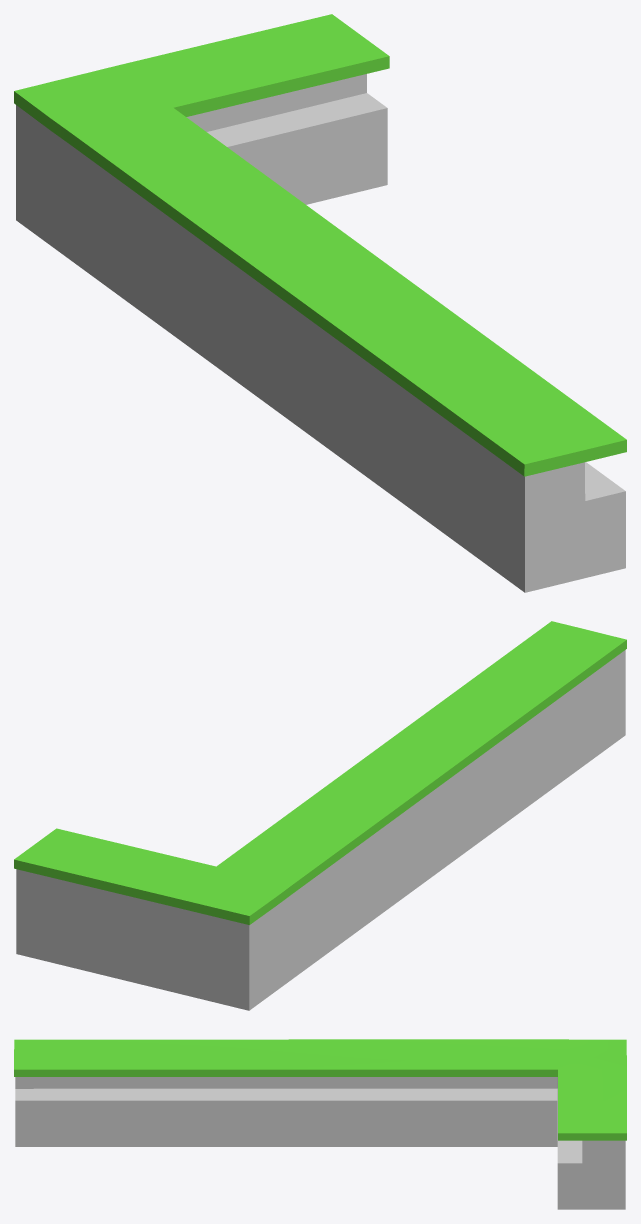
Rendered from counter.fbx.
The picture shows the model from 3 angles, top to bottom: view 1: azimuth 30°, elevation 25°; view 2: azimuth 150°, elevation 25°; view 3: azimuth 270°, elevation 25°; orthographic projection. The views are drawn at different scales.
Visible parts, largest first — view 1: counter; view 2: counter; view 3: counter.
Boxes of the visible parts, x1=… form: counter: x1=14, y1=14, x2=626, y2=592; counter: x1=14, y1=621, x2=626, y2=1010; counter: x1=14, y1=1039, x2=626, y2=1209.
Size of the model in its own units: 632 by 245 by 1754.
